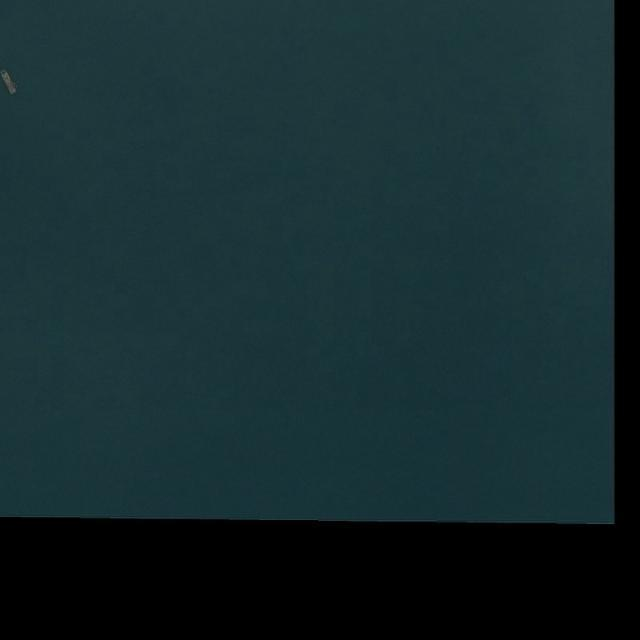ship: (1, 68, 18, 95)
